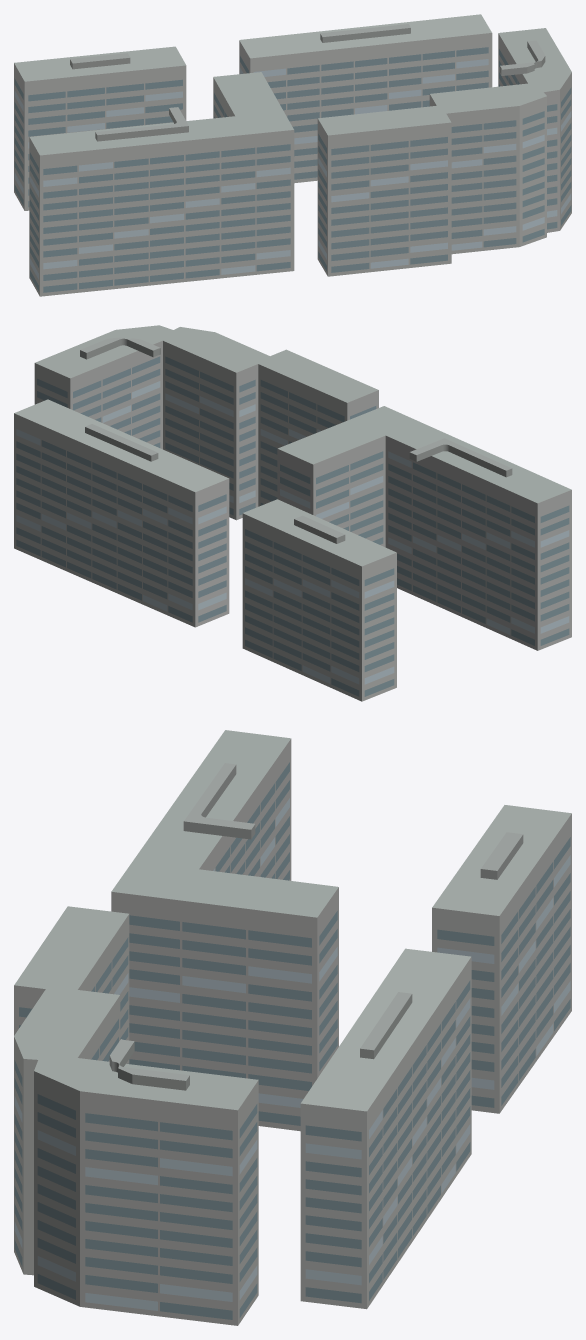
The model's file is apt-a13204505.glb.
3 renders of one model, top to bottom at view 1: azimuth 30°, elevation 25°; view 2: azimuth 150°, elevation 25°; view 3: azimuth 270°, elevation 25°, orthographic. The views are drawn at different scales.
Visible parts, largest first — view 1: apt-a13204505; view 2: apt-a13204505; view 3: apt-a13204505.
Boxes of the visible parts, x1=… form: apt-a13204505: x1=14, y1=14, x2=571, y2=296; apt-a13204505: x1=14, y1=325, x2=571, y2=701; apt-a13204505: x1=14, y1=730, x2=571, y2=1325.
Size of the model in its own units: 138 by 38.25 by 85.82.
